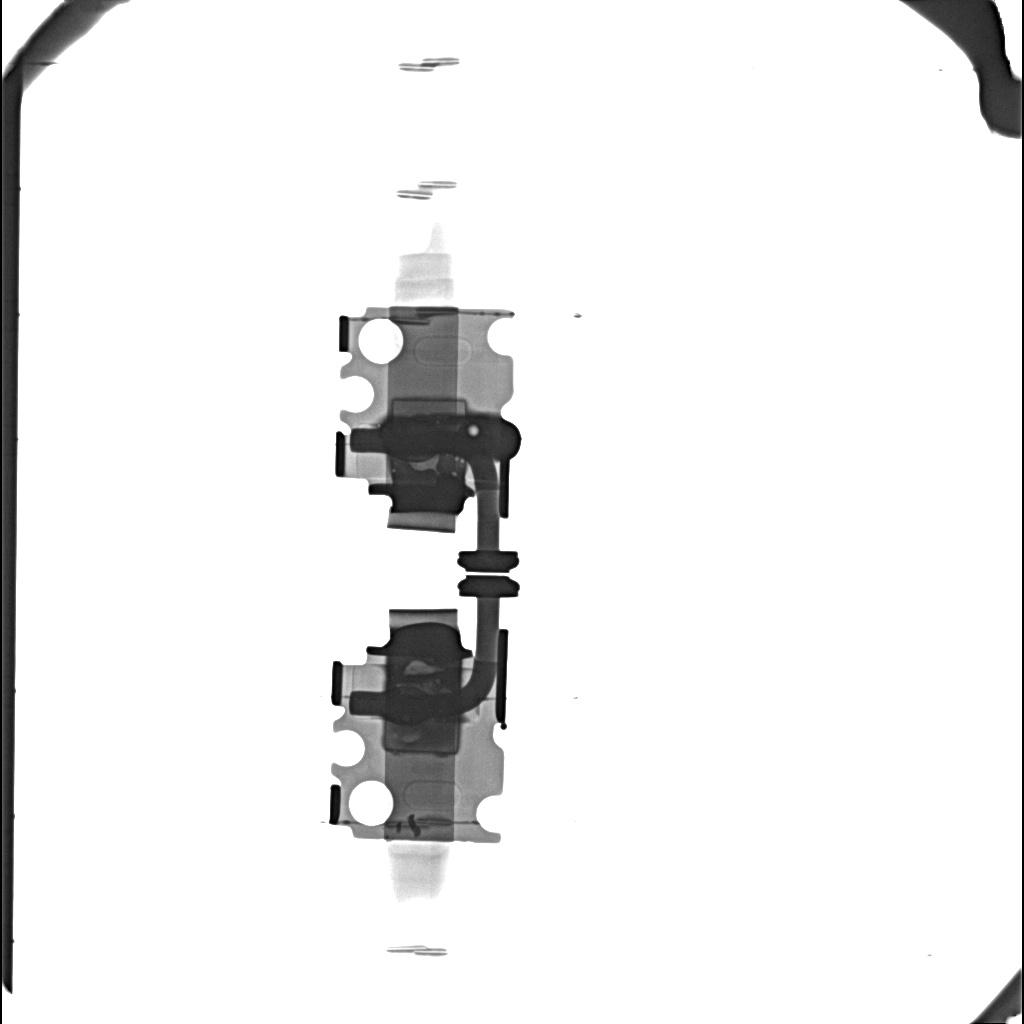气孔: (384, 717, 461, 756), (391, 399, 466, 415)
气泡: (402, 659, 443, 675), (408, 455, 439, 472)
水纹: (381, 416, 520, 459), (382, 691, 465, 724)
